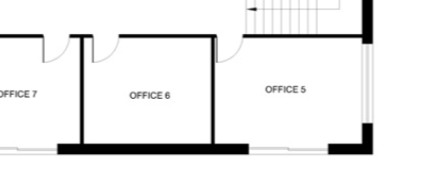door: (84, 28, 126, 66), (38, 28, 72, 71), (214, 29, 246, 65)
window: (356, 40, 379, 132)
